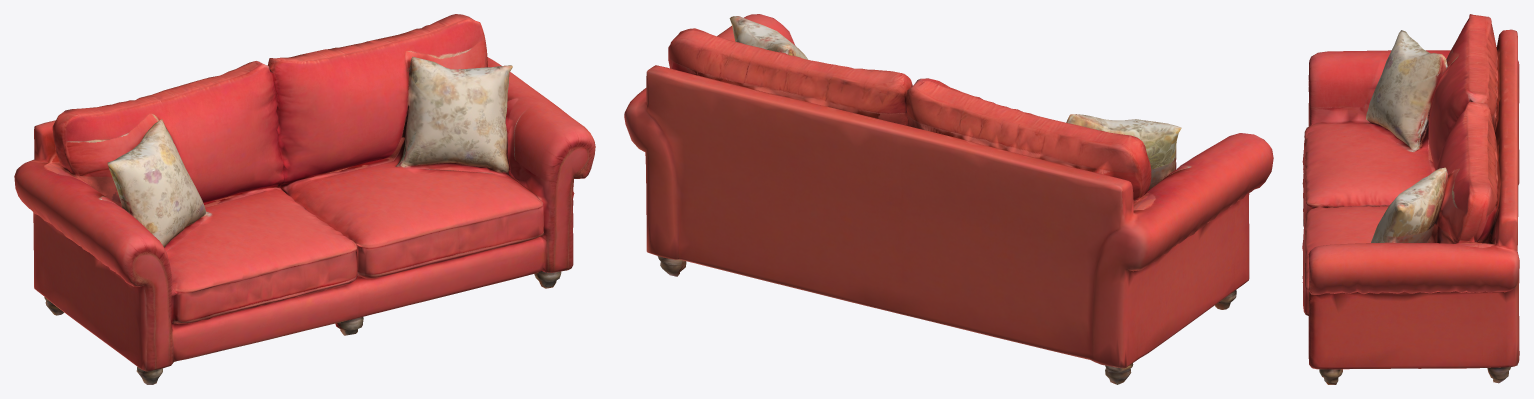
Rendered from Red_Sofa_with_country_0719124201_texture.fbx.
3 renders of one model, left to right at view 1: azimuth 30°, elevation 25°; view 2: azimuth 150°, elevation 25°; view 3: azimuth 270°, elevation 25°, orthographic. The views are drawn at different scales.
Visible parts, largest first — view 1: Mesh_0; view 2: Mesh_0; view 3: Mesh_0.
Boxes of the visible parts, x1=… form: Mesh_0: x1=14, y1=14, x2=595, y2=384; Mesh_0: x1=624, y1=14, x2=1273, y2=384; Mesh_0: x1=1302, y1=14, x2=1519, y2=384.
Bounding box in the file's own units: 200 × 86.8 × 86.48.
1 material, 1 textured.
